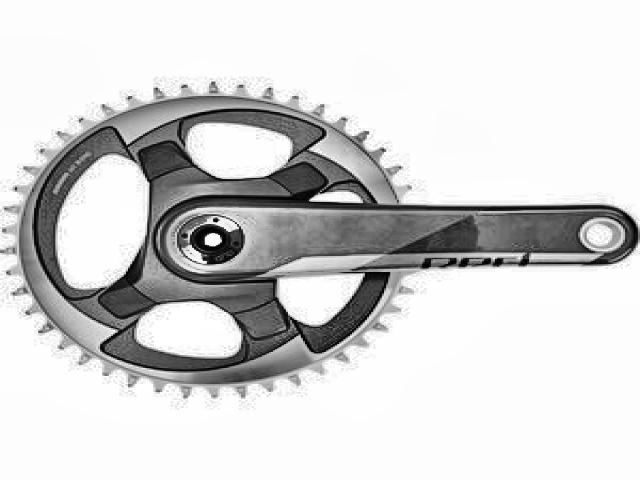cranks_set: (0, 80, 640, 400)
